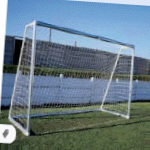goals: (9, 20, 139, 132)
